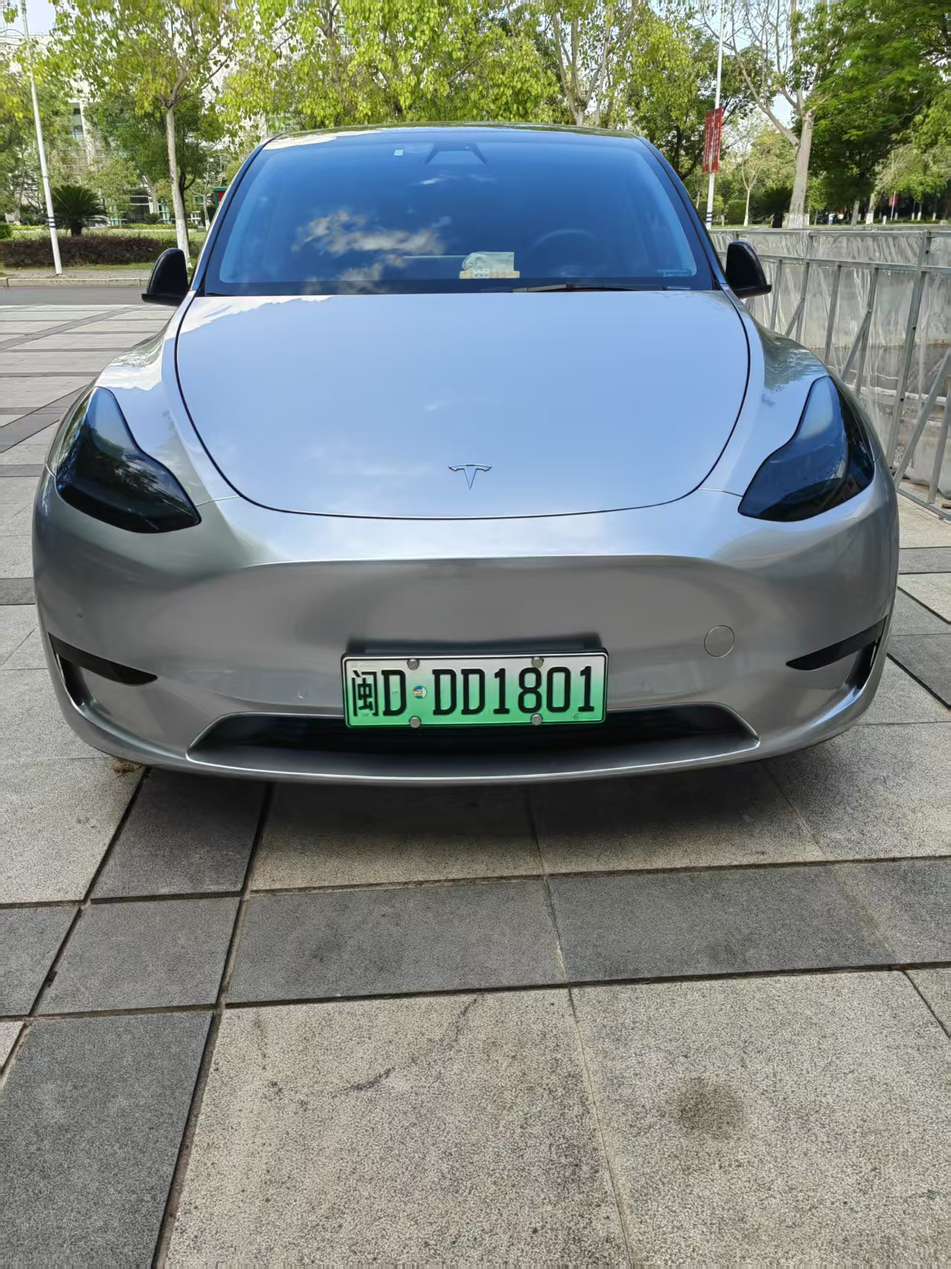plate: (335, 659, 610, 732)
